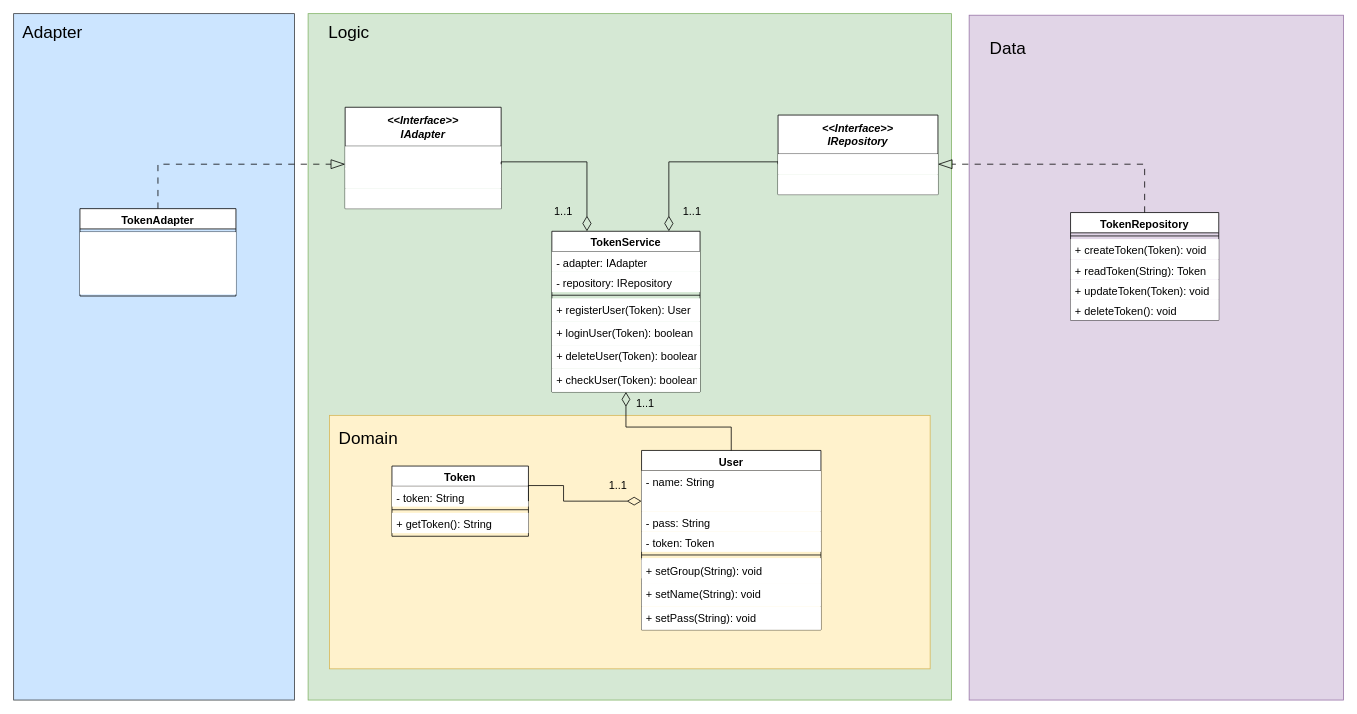
The diagram is 1357 pixels wide and 714 high, and some of its shapes have lost their labels. The centre of each missing label's shape, as x and y in pixels:
+ checkToken(json): json: the point at 423,178
+ deleteToken(json): void: the point at 423,198
+ getToken(json): json: the point at 423,157
+ getToken(User): Token: the point at 858,164
+ transferToken(Token): void: the point at 858,184
- group: String: the point at 731,501
